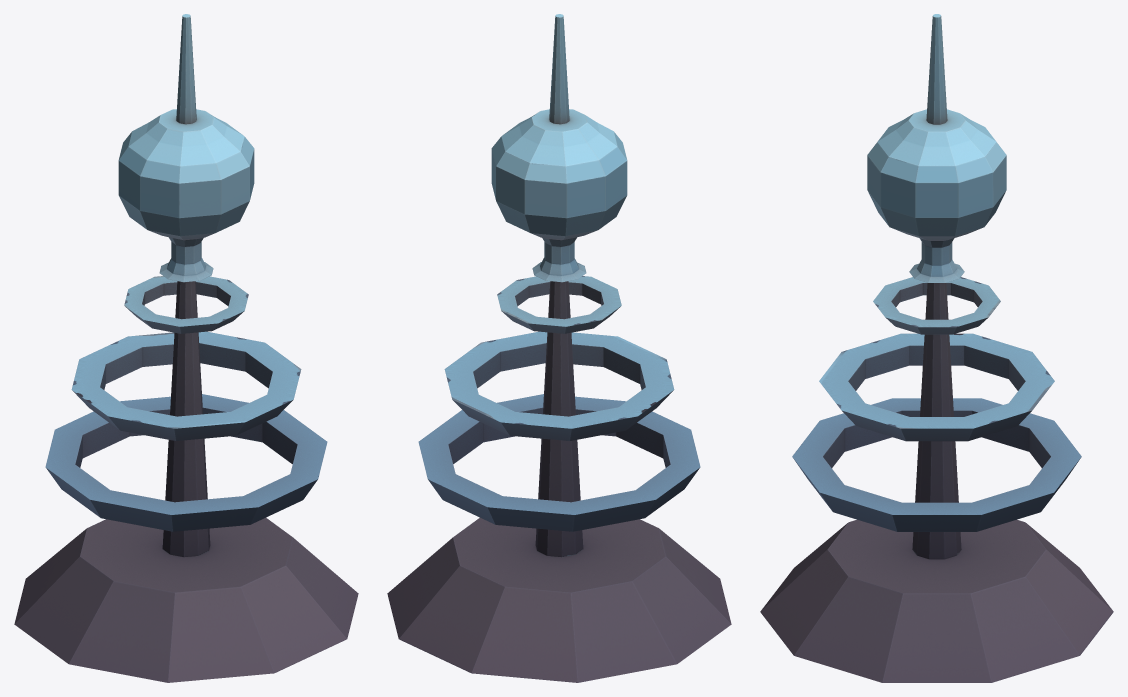
The model's file is Shield.fbx.
3 renders of one model, left to right at view 1: azimuth 30°, elevation 25°; view 2: azimuth 150°, elevation 25°; view 3: azimuth 270°, elevation 25°, orthographic.
Visible parts, largest first — view 1: Shield; view 2: Shield; view 3: Shield.
Boxes of the visible parts, x1,y1,x2,y2 form: Shield: (14,14,358,682); Shield: (387,14,731,682); Shield: (760,14,1113,682).
Size of the model in its own units: 53.15 by 104 by 55.89.
